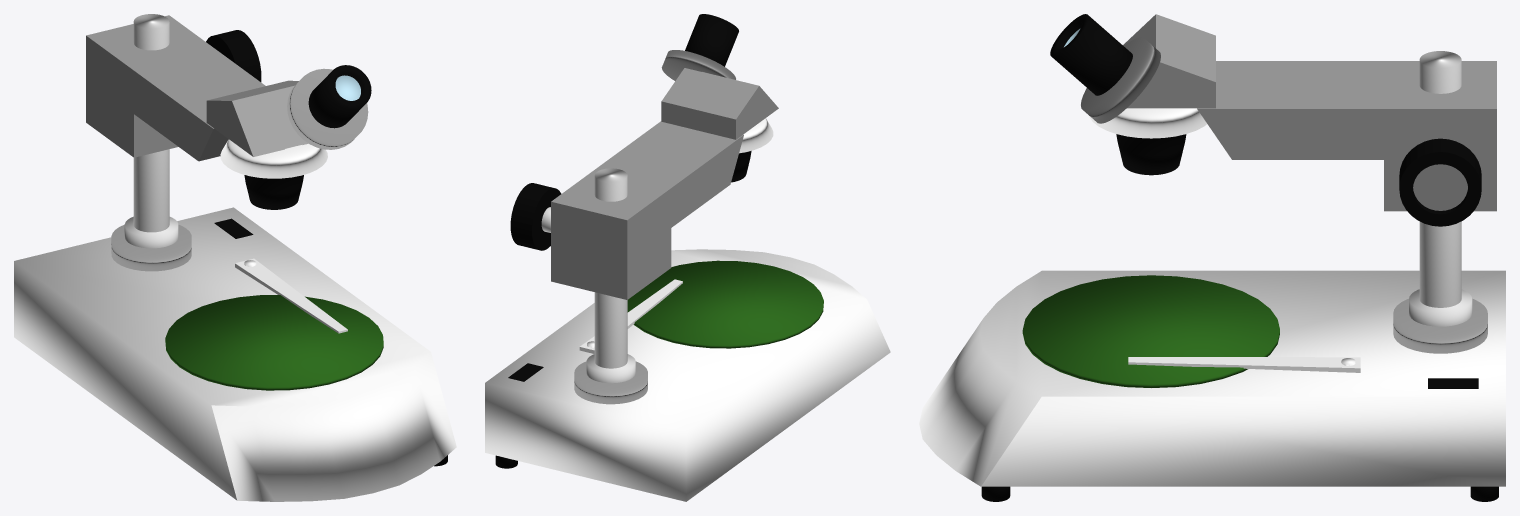
Rendered from Microscope.gltf.
The picture shows the model from 3 angles, left to right: view 1: azimuth 30°, elevation 25°; view 2: azimuth 150°, elevation 25°; view 3: azimuth 270°, elevation 25°; orthographic projection. The views are drawn at different scales.
Visible parts, largest first — view 1: Plane, Cube, Circle, Cube.001, Cylinder.004, Cylinder.005, Cylinder.006, Cylinder.007, Cylinder.002, Plane.001, Cylinder.008, Cylinder.010 (+1 smaller); view 2: Plane, Cube, Circle, Cube.001, Cylinder.004, Cylinder.010, Cylinder.002, Cylinder.006, Cylinder.005, Cylinder.003, Plane.001, Cylinder.007; view 3: Plane, Cube, Circle, Cylinder.010, Cube.001, Cylinder.004, Cylinder.006, Cylinder.002, Cylinder.005, Plane.001, Cylinder.007, Cylinder.008 (+1 smaller).
Part boxes in pixels (x1=…): Plane: x1=14, y1=207, x2=456, y2=501; Cube: x1=86, y1=15, x2=265, y2=161; Circle: x1=165, y1=295, x2=383, y2=390; Cube.001: x1=206, y1=80, x2=308, y2=156; Cylinder.004: x1=133, y1=14, x2=169, y2=232; Cylinder.005: x1=287, y1=68, x2=368, y2=149; Cylinder.006: x1=308, y1=65, x2=371, y2=128; Cylinder.007: x1=220, y1=139, x2=327, y2=178; Cylinder.002: x1=111, y1=224, x2=191, y2=271; Plane.001: x1=235, y1=258, x2=347, y2=333; Cylinder.008: x1=244, y1=175, x2=303, y2=209; Cylinder.010: x1=206, y1=30, x2=261, y2=81; Plane: x1=485, y1=249, x2=890, y2=501; Cube: x1=551, y1=121, x2=743, y2=299; Circle: x1=627, y1=260, x2=823, y2=348; Cube.001: x1=661, y1=68, x2=778, y2=139; Cylinder.004: x1=594, y1=168, x2=627, y2=368; Cylinder.010: x1=510, y1=183, x2=561, y2=250; Cylinder.002: x1=574, y1=361, x2=647, y2=404; Cylinder.006: x1=685, y1=14, x2=738, y2=66; Cylinder.005: x1=661, y1=50, x2=735, y2=80; Cylinder.003: x1=586, y1=354, x2=635, y2=383; Plane.001: x1=579, y1=279, x2=682, y2=353; Cylinder.007: x1=739, y1=118, x2=773, y2=153; Plane: x1=919, y1=270, x2=1505, y2=486; Cube: x1=1197, y1=61, x2=1496, y2=211; Circle: x1=1022, y1=275, x2=1279, y2=387; Cylinder.010: x1=1399, y1=138, x2=1481, y2=226; Cube.001: x1=1123, y1=14, x2=1215, y2=108; Cylinder.004: x1=1419, y1=51, x2=1461, y2=307; Cylinder.006: x1=1050, y1=14, x2=1132, y2=95; Cylinder.002: x1=1393, y1=298, x2=1487, y2=353; Cylinder.005: x1=1081, y1=37, x2=1160, y2=123; Plane.001: x1=1128, y1=357, x2=1360, y2=372; Cylinder.007: x1=1089, y1=108, x2=1206, y2=138; Cylinder.008: x1=1116, y1=134, x2=1186, y2=175.
Size of the model in its own units: 2 by 3.31 by 3.94.
